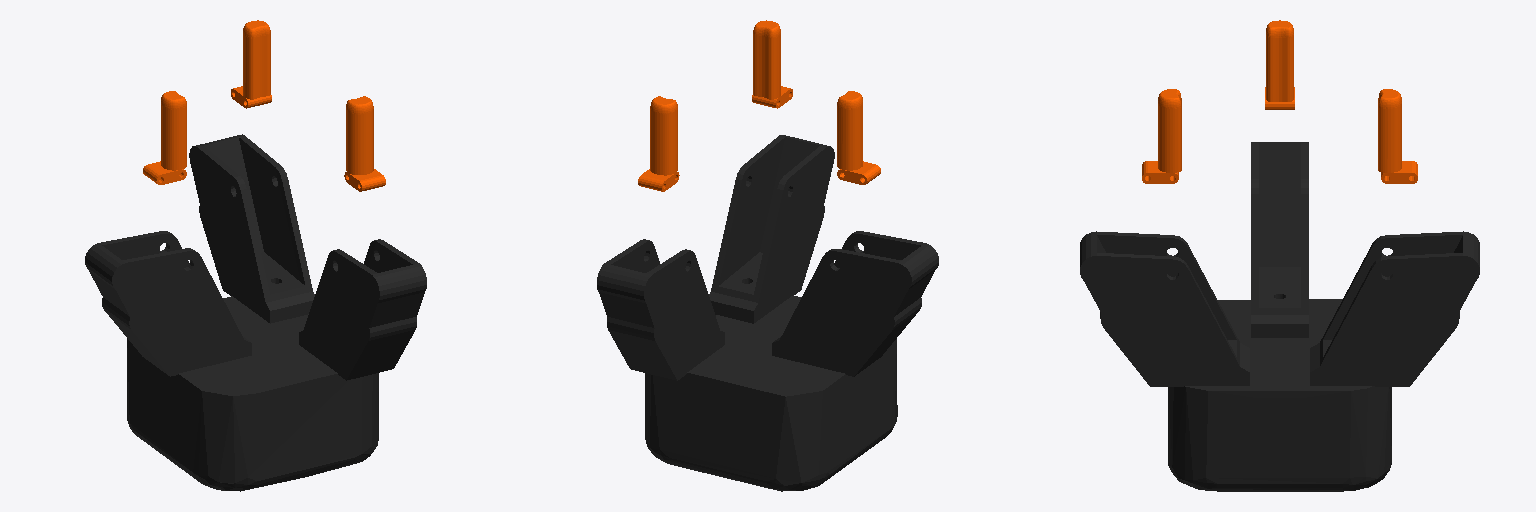
URDF robot description (lbr_iiwa_with_wsg50):
<?xml version="1.0" ?>
<robot name="lbr_iiwa_with_wsg50">

  <!-- Import Rviz colors -->
  <material name="Grey">
    <color rgba="0.2 0.2 0.2 1.0"/>
  </material>
  <material name="Orange">
    <color rgba="1.0 0.423529411765 0.0392156862745 1.0"/>
  </material>
  <material name="Blue">
  <color rgba="0.5 0.7 1.0 1.0"/>
</material>

  <!-- link 0 -->
  <link name="lbr_iiwa_link_0">
  <selfCollide>false</selfCollide>
    <inertial>
      <mass value="0.1"/>
      <origin xyz="-0.1 0 0.07" rpy="0 0 0"/>
      <inertia ixx="0.05" ixy="0" ixz="0" iyy="0.06" iyz="0" izz="0.03"/>
    </inertial>
    <collision name="lbr_iiwa_link_0_collision">
      <origin xyz="0 0 0" rpy="0 0 0"/>
      <geometry>
        <mesh filename="package://meshes//kuka//link_0.stl" scale="1 1 1"/>
      </geometry>
    </collision>
    <visual name="lbr_iiwa_link_0_visual">
      <origin xyz="0 0 0" rpy="0 0 0"/>
      <geometry>
        <mesh filename="package://meshes//kuka//link_0.stl" scale="1 1 1"/>
      </geometry>
      <material name="Grey"/>
    </visual>
  </link>

  <!-- joint between link_0 and link_1 -->
  <joint name="J0" type="revolute">
    <parent link="lbr_iiwa_link_0"/>
    <child link="lbr_iiwa_link_1"/>
    <origin xyz="0 0 0.1575" rpy="0 0 0"/>
    <axis xyz="0 0 1"/>
    <limit lower="-2.96706" upper="2.96706" effort="300.0" velocity="10.0"/>
  </joint>


  <!-- link 1 -->
  <link name="lbr_iiwa_link_1">
  <selfCollide>false</selfCollide>
    <inertial>
      <mass value="4"/>
      <origin xyz="0   -0.03  0.12" rpy="0 0 0"/>
      <inertia ixx="0.1" ixy="0" ixz="0" iyy="0.09" iyz="0" izz="0.02"/>
    </inertial>
    <collision name="lbr_iiwa_link_1_collision">
      <origin xyz="0 0 0" rpy="0 0 0"/>
      <geometry>
        <mesh filename="package://meshes//kuka//link_1.stl" scale="1 1 1"/>
      </geometry>
    </collision>
    <visual name="lbr_iiwa_link_1_visual">
      <origin xyz="0 0 0" rpy="0 0 0"/>
      <geometry>
        <mesh filename="package://meshes//kuka//link_1.stl" scale="1 1 1"/>
      </geometry>
      <material name="Blue"/>
    </visual>
  </link>

  <!-- joint between link_1 and link_2 -->
  <joint name="J1" type="revolute">
    <parent link="lbr_iiwa_link_1"/>
    <child link="lbr_iiwa_link_2"/>
    <origin xyz="0 0 0.2025" rpy="1.5708 0 -3.14159"/>
    <axis xyz="0 0 1"/>
    <limit lower="-2.0944" upper="2.0944" effort="300.0" velocity="10.0"/>
  </joint>

  <!-- link 2 -->
  <link name="lbr_iiwa_link_2">
  <selfCollide>false</selfCollide>
    <inertial>
      <mass value="4"/>
      <origin xyz="0.00029 0.059   0.042" rpy="0 0 0"/>
      <inertia ixx="0.05" ixy="0" ixz="0" iyy="0.018" iyz="0" izz="0.044"/>
    </inertial>
    <collision name="lbr_iiwa_link_2_collision">
      <origin xyz="0 0 0" rpy="0 0 0"/>
      <geometry>
        <mesh filename="package://meshes//kuka//link_2.stl" scale="1 1 1"/>
      </geometry>
    </collision>
    <visual name="lbr_iiwa_link_2_visual">
      <origin xyz="0 0 0" rpy="0 0 0"/>
      <geometry>
        <mesh filename="package://meshes//kuka//link_2.stl" scale="1 1 1"/>
      </geometry>
      <material name="Blue"/>
    </visual>
  </link>

  <!-- joint between link_2 and link_3 -->
  <joint name="J2" type="revolute">
    <parent link="lbr_iiwa_link_2"/>
    <child link="lbr_iiwa_link_3"/>
    <origin xyz="0     0.2045 0" rpy="1.5708 0 -3.14159"/>
    <axis xyz="0 0 1"/>
    <limit lower="-2.96706" upper="2.96706" effort="300.0" velocity="10.0"/>
  </joint>

  <link name="lbr_iiwa_link_3">
  <selfCollide>false</selfCollide>
    <inertial>
      <mass value="3"/>
      <origin xyz="0   0.03 0.13" rpy="0 0 0"/>
      <inertia ixx="0.08" ixy="0" ixz="0" iyy="0.075" iyz="0" izz="0.01"/>
    </inertial>
    <collision name="lbr_iiwa_link_3_collision">
      <origin xyz="0 0 0" rpy="0 0 0"/>
      <geometry>
        <mesh filename="package://meshes//kuka//link_3.stl" scale="1 1 1"/>
      </geometry>
    </collision>
    <visual name="lbr_iiwa_link_3_visual">
      <origin xyz="0 0 0" rpy="0 0 0"/>
      <geometry>
        <mesh filename="package://meshes//kuka//link_3.stl" scale="1 1 1"/>
      </geometry>
      <material name="Orange"/>
    </visual>
  </link>

  <joint name="J3" type="revolute">
    <parent link="lbr_iiwa_link_3"/>
    <child link="lbr_iiwa_link_4"/>
    <origin xyz="0     0     0.2155" rpy="1.5708 0     0"/>
    <axis xyz="0 0 1"/>
    <limit lower="-2.0944" upper="2.0944" effort="300.0" velocity="10.0"/>
  </joint>

  <link name="lbr_iiwa_link_4">
  <selfCollide>false</selfCollide>
    <inertial>
      <mass value="2.7"/>
      <origin xyz="0    0.067 0.034" rpy="0 0 0"/>
      <inertia ixx="0.03" ixy="0" ixz="0" iyy="0.01" iyz="0" izz="0.029"/>
    </inertial>
    <collision name="lbr_iiwa_link_4_collision">
      <origin xyz="0 0 0" rpy="0 0 0"/>
      <geometry>
        <mesh filename="package://meshes//kuka//link_4.stl" scale="1 1 1"/>
      </geometry>
    </collision>
    <visual name="lbr_iiwa_link_4_visual">
      <origin xyz="0 0 0" rpy="0 0 0"/>
      <geometry>
        <mesh filename="package://meshes//kuka//link_4.stl" scale="1 1 1"/>
      </geometry>
      <material name="Blue"/>
    </visual>
  </link>


  <joint name="J4" type="revolute">
    <parent link="lbr_iiwa_link_4"/>
    <child link="lbr_iiwa_link_5"/>
    <origin xyz="0     0.1845 0" rpy="1.5708  0      3.14159"/>
    <axis xyz="0 0 1"/>
    <limit lower="-2.96706" upper="2.96706" effort="300.0" velocity="10.0"/>
  </joint>


  <link name="lbr_iiwa_link_5">
  <selfCollide>false</selfCollide>
    <inertial>
      <mass value="1.7"/>
      <origin xyz="0.0001 0.021  0.076" rpy="0 0 0"/>
      <inertia ixx="0.02" ixy="0" ixz="0" iyy="0.018" iyz="0" izz="0.005"/>
    </inertial>
    <collision name="lbr_iiwa_link_5_collision">
      <origin xyz="0 0 0" rpy="0 0 0"/>
      <geometry>
        <mesh filename="package://meshes//kuka//link_5.stl" scale="1 1 1"/>
      </geometry>
    </collision>
    <visual name="lbr_iiwa_link_5_visual">
      <origin xyz="0 0 0" rpy="0 0 0"/>
      <geometry>
        <mesh filename="package://meshes//kuka//link_5.stl" scale="1 1 1"/>
      </geometry>
      <material name="Blue"/>
    </visual>
  </link>

  <joint name="J5" type="revolute">
    <parent link="lbr_iiwa_link_5"/>
    <child link="lbr_iiwa_link_6"/>
    <origin xyz="0     0     0.2155" rpy="1.5708 0     0"/>
    <axis xyz="0 0 1"/>
    <limit lower="-2.0944" upper="2.0944" effort="300.0" velocity="10.0"/>
  </joint>

  <link name="lbr_iiwa_link_6">
  <selfCollide>false</selfCollide>
    <inertial>
      <mass value="1.8"/>
      <origin xyz="0      0.00059 0.0004" rpy="0 0 0"/>
      <inertia ixx="0.005" ixy="0" ixz="0" iyy="0.0036" iyz="0" izz="0.0047"/>
    </inertial>
    <collision name="lbr_iiwa_link_6_collision">
      <origin xyz="0 0 0" rpy="0 0 0"/>
      <geometry>
        <mesh filename="package://meshes//kuka//link_6.stl" scale="1 1 1"/>
      </geometry>
    </collision>
    <visual name="lbr_iiwa_link_6_visual">
      <origin xyz="0 0 0" rpy="0 0 0"/>
      <geometry>
        <mesh filename="package://meshes//kuka//link_6.stl" scale="1 1 1"/>
      </geometry>
      <material name="Orange"/>
    </visual>
  </link>

  <joint name="J6" type="revolute">
    <parent link="lbr_iiwa_link_6"/>
    <child link="lbr_iiwa_link_7"/>
    <origin xyz="0    0.081 0" rpy="1.5708   0      -3.14159"/>
    <axis xyz="0 0 1"/>
    <limit lower="-3.05433" upper="3.05433" effort="300.0" velocity="10.0"/>
  </joint>

  <link name="lbr_iiwa_link_7">
  <selfCollide>false</selfCollide>
    <inertial>
      <mass value="0.3"/>
      <origin xyz="0   0   0.02" rpy="0 0 0"/>
      <inertia ixx="0.001" ixy="0" ixz="0" iyy="0.001" iyz="0" izz="0.001"/>
    </inertial>
    <collision name="lbr_iiwa_link_7_collision">
      <origin xyz="0 0 0" rpy="0 0 0"/>
      <geometry>
        <mesh filename="package://meshes//kuka//link_7.stl" scale="1 1 1"/>
      </geometry>
    </collision>
    <visual name="lbr_iiwa_link_7_visual">
      <origin xyz="0 0 0" rpy="0 0 0"/>
      <geometry>
        <mesh filename="package://meshes//kuka//link_7.stl" scale="1 1 1"/>
      </geometry>
      <material name="Grey"/>
    </visual>
  </link>

<!-- Palm -->

  <joint name="base_joint" type="fixed">
    <parent link="lbr_iiwa_link_7"/>
    <child link="hand_base_link"/>
    <origin xyz="0 0 0.132936" rpy="0 0 0"/> <!-- 0.044 -->
    <axis xyz="0 0 0"/>
    <limit lower="0" upper="0" effort="0" velocity="0"/>
  </joint>

  <link name="hand_base_link"> </link>

  <!-- pas conforme au setup reel -->
  <!-- xyz="-0.11876 0 0.11935"
       rpy="0 0.93236 0"/>-->
  <!-- setup reel-->
  <joint name="hand_interface_to_base" type="fixed">
    <origin rpy="0 0.0 0" xyz="0 0 0.0"/> <!-- 0.132936 -->
    <parent link="hand_base_link"/>
    <child link="hand_base_hand"/>
    <axis xyz="0 0 0"/>
  </joint>

  <link name="hand_base_hand">
    <selfCollide>false</selfCollide>
    <inertial>
      <origin rpy="0 0 0" xyz="0.00 0.0 -0.04835"/>
      <mass value="2.9623"/>
      <inertia ixx="0.0098688" ixy="0" ixz="-0.00072557" iyy="0.011075" iyz="0" izz="0.015946"/>
    </inertial>
    <visual>
      <origin rpy="0 0 0" xyz="0 0 0"/>
      <geometry>
        <mesh filename="package://visual/paume/base_hand_paume1.STL" />
        <!--  filename="package://cea_robots/meshes/hand/visual/base_link.STL" />-->
      </geometry>
      <material name="Grey"/>
    </visual>
    <collision>
      <origin rpy="0 0 0" xyz="0 0 0"/>
      <geometry>
        <mesh filename="package://collision/paume/base_hand_paume1.STL"/>
        <!-- filename="package://cea_robots/meshes/hand/collision/base_link.STL" />-->
      </geometry>
    </collision>
  </link>

<!-- Finger 1 -->
<!-- Adduction / abduction Joint -->
<!-- Just a reminder joint frame are localized upon the parent joint frame -->
<!-- Then the inertia frame, link frame is localized upon this new joint frame -->
<!-- Same goes for visual and collision frame -->
<!-- rpy = pitch yaw roll ; 
remember that at each rotation we're using the old axes to do it not the new ones -->
  <joint name="base_finger_1" type="revolute">
    <origin rpy="0 -1.5708 -3.1416 " xyz="0.054 0.054 0.09885097"/>
    <parent link="hand_base_hand"/>
    <child link="finger1_B"/>
    <axis xyz="1 0 0"/>
    <dynamics damping="8"/>
    <limit effort="100" lower="-1.5708" upper="0" velocity="3"/>
  </joint>

  <link name="finger1_B">
    <selfCollide>false</selfCollide>
    <inertial>
      <origin rpy="0 0 0" xyz="-0.0465 -0.04775 -0.0"/>
      <mass value="0.519"/>
      <inertia ixx="0.0007" ixy="-0.0002" ixz="0.0" iyy="0.0006" iyz="0.0" izz="0.0011"/>
    </inertial>
    <visual>
      <origin rpy="0 0 0" xyz="0 0 0"/>
      <geometry>
        <mesh filename="package://visual/base_finger/finger.STL" />
      </geometry>
      <material name="Grey"/>
    </visual>
    <collision>
      <origin rpy="0 0 0" xyz="0 0 0"/>
      <geometry>
        <mesh filename="package://collision/base_finger/finger.STL" />
      </geometry>
    </collision>
  </link>

  <joint name="finger1_BP_joint" type="revolute">
    <origin rpy="0 0 0" xyz="0 -0.03255 0"/>
    <parent link="finger1_B"/>
    <child link="finger1_P"/>
    <axis xyz="0 0 1"/>
    <dynamics damping="0.3"/>
    <limit effort="5" lower="-1.3" upper="0.31416" velocity="5"/>  <!-- -0.43633 -->
  </joint>

  <link name="finger1_P">
    <selfCollide>false</selfCollide>
    <inertial>
      <origin rpy="0 0 0" xyz="0.03411 -0.01012 0.0"/>
      <mass value="0.300"/>
      <inertia ixx="0.000092" ixy="-0.000061" ixz="0.0" iyy="0.00031" iyz="0.0" izz="0.00031"/>
      <!--<mass value="0.09833" />
          <inertia
              ixx="0.00003"
              ixy="-0.00002"
              ixz="0.0"
              iyy="0.00010"
              iyz="0.0"
              izz="0.00010" />-->
    </inertial>

    <visual>
      <origin rpy="0 0 0" xyz="0 0 0"/>
      <geometry>
        <mesh filename="package://visual/proximal/proximal_0.09.STL" />
      </geometry>
      <material name="Orange"/>
    </visual>

    <collision>
      <!--<origin rpy="0 0 0" xyz="0.04 -0.01 0"/>
      <geometry>
        <box size="0.090 0.030 0.033"/>
      </geometry>-->

      <origin rpy="0 0 0" xyz="0 0 0"/>
      <geometry>
        <mesh filename="package://collision/proximal/proximal_0.09.STL" />
      </geometry>
    </collision>
  </link>

  <joint name="finger1_PD_joint" type="revolute">
    <origin rpy="0 0 0" xyz="0.08 0 0.0"/>
    <parent link="finger1_P"/>
    <child link="finger1_D"/>
    <axis xyz="0 0 1"/>
    <dynamics damping="0.3"/>
    <limit effort="5" lower="-0.5" upper="1.0472" velocity="5"/>
  </joint>

  <link name="finger1_D">
    <selfCollide>false</selfCollide>
    <inertial>
      <origin rpy="0 0 0" xyz="0.03032 -0.0019 0.0"/>
      <mass value="0.150"/>
      <inertia ixx="0.000025" ixy="0.000013" ixz="0.0" iyy="0.000102" iyz="0.0" izz="0.000108"/>
      <!--<mass value="0.200" />
          <inertia
              ixx="0.000028"
              ixy="0.000014"
              ixz="0.0"
              iyy="0.000113"
              iyz="0.0"
              izz="0.000120" />-->
      <!--<mass value="0.02828" />
          <inertia
              ixx="0.000004"
              ixy="0.000002"
              ixz="0.0"
              iyy="0.000016"
              iyz="0.0"
              izz="0.000017" />-->
    </inertial>
    <visual>
      <origin rpy="0 0 0" xyz="0 0 0"/>
      <geometry>
        <mesh filename="package://visual/distal/distal_2P/distal_0.66.STL" />
      </geometry>
      <material name="Orange"/>
    </visual>
    <collision>
      <!--<origin rpy="0 1.57 0" xyz="0.030 -0.002 0"/>
      <geometry>
        <cylinder length="0.066" radius="0.011"/>
      </geometry>
      -->
      <origin rpy="0 0 0" xyz="0 0 0"/>
      <geometry>
        <mesh filename="package://collision/distal/distal_2P/distal_0.66.STL" />
      </geometry>
    </collision>

    <!--<collision>
      <origin rpy="0 0 0" xyz="0.063 -0.002 0"/>
      <geometry>
        <sphere radius="0.011"/>
      </geometry>
    </collision>-->
  </link>

<!-- FINGER 2 -->
<!-- Adduction / Abduction joint -->
  <joint name="base_finger_2" type="revolute">
    <origin rpy="3.1416 -1.5708 3.1416" xyz="0.054 -0.054 0.09885097"/>
    <parent link="hand_base_hand"/>
    <child link="finger2_B"/>
    <axis xyz="1 0 0"/>
    <dynamics damping="8"/>
    <limit effort="100" lower="0" upper="1.5708" velocity="3"/>
    <mimic joint="hand_abduction1" multiplier="-1" offset="0"/>
  </joint>

  <link name="finger2_B">
    <selfCollide>false</selfCollide>
    <inertial>
      <origin rpy="0 0 0" xyz="-0.0465 -0.04775 -0.0"/>
      <mass value="0.519"/>
      <inertia ixx="0.0007" ixy="-0.0002" ixz="0.0" iyy="0.0006" iyz="0.0" izz="0.0011"/>
    </inertial>
    <visual>
      <origin rpy="0 0 0" xyz="0 0 0"/>
      <geometry>
        <mesh filename="package://visual/base_finger/finger.STL" />
      </geometry>
      <material name="Grey"/>
    </visual>
    <collision>
      <origin rpy="0 0 0" xyz="0 0 0"/>
      <geometry>
        <mesh filename="package://collision/base_finger/finger.STL" />
      </geometry>
    </collision>
  </link>

  <joint name="finger2_BP_joint" type="revolute">
    <origin rpy="0 0 0" xyz="0 -0.03255 0"/>
    <parent link="finger2_B"/>
    <child link="finger2_P"/>
    <axis xyz="0 0 1"/>
    <dynamics damping="0.3"/>
    <limit effort="5" lower="-1.3" upper="0.31416" velocity="5"/>
  </joint>

  <link name="finger2_P">
    <selfCollide>false</selfCollide>
    <inertial>
      <origin rpy="0 0 0" xyz="0.03411 -0.01012 0.0"/>
      <mass value="0.300"/>
      <inertia ixx="0.000092" ixy="-0.000061" ixz="0.0" iyy="0.00031" iyz="0.0" izz="0.00031"/>
      <!--<mass value="0.09833" />
          <inertia
              ixx="0.00003"
              ixy="-0.00002"
              ixz="0.0"
              iyy="0.00010"
              iyz="0.0"
              izz="0.00010" />-->
    </inertial>
    <visual>
      <origin rpy="0 0 0" xyz="0 0 0"/>
      <geometry>
        <mesh filename="package://visual/proximal/proximal_0.09.STL" />
      </geometry>
      <material name="Orange"/>
    </visual>
    <collision>
      <!--<origin rpy="0 0 0" xyz="0.04 -0.01 0"/>
      <geometry>
        <box size="0.090 0.030 0.033"/>
      </geometry>-->

      <origin rpy="0 0 0" xyz="0 0 0"/>
      <geometry>
        <mesh filename="package://collision/proximal/proximal_0.09.STL" />
      </geometry>
    </collision>
  </link>

  <joint name="finger2_PD_joint" type="revolute">
    <origin rpy="0 0 0" xyz="0.08 0 0.0"/>
    <parent link="finger2_P"/>
    <child link="finger2_D"/>
    <axis xyz="0 0 1"/>
    <dynamics damping="0.3"/>
    <limit effort="5" lower="-0.5" upper="1.0472" velocity="5"/>
  </joint>

  <link name="finger2_D">
    <selfCollide>false</selfCollide>
    <inertial>
      <origin rpy="0 0 0" xyz="0.03032 -0.0019 0.0"/>
      <mass value="0.150"/>
      <inertia ixx="0.000025" ixy="0.000013" ixz="0.0" iyy="0.000102" iyz="0.0" izz="0.000108"/>
      <!--<mass value="0.200" />
          <inertia
              ixx="0.000028"
              ixy="0.000014"
              ixz="0.0"
              iyy="0.000113"
              iyz="0.0"
              izz="0.000120" />-->
      <!--<mass value="0.02828" />
          <inertia
              ixx="0.000004"
              ixy="0.000002"
              ixz="0.0"
              iyy="0.000016"
              iyz="0.0"
              izz="0.000017" />-->
    </inertial>
    <visual>
      <origin rpy="0 0 0" xyz="0 0 0"/>
      <geometry>
        <mesh filename="package://visual/distal/distal_2P/distal_0.66.STL" />
      </geometry>
      <material name="Orange"/>
    </visual>
    <collision>
    <!--
      <origin rpy="0 1.57 0" xyz="0.030 -0.002 0"/>
      <geometry>
        <cylinder length="0.066" radius="0.011"/>
      </geometry>-->

      <origin rpy="0 0 0" xyz="0 0 0"/>
      <geometry>
        <mesh filename="package://collision/distal/distal_2P/distal_0.66.STL" />
      </geometry>
    </collision>
    <!--
    <collision>
      <origin rpy="0 0 0" xyz="0.063 -0.002 0"/>
      <geometry>
        <sphere radius="0.011"/>
      </geometry>
    </collision>-->
  </link>


  <!-- FINGER 3 -->

  <joint name="base_finger_3" type="fixed">
    <!-- position pas exactement bonne par rapport a la main reelle a 2-3 mm pres -->
    <origin rpy="-1.5708 -1.5708 0" xyz="-0.04398 0 0.09885097"/>
    <parent link="hand_base_hand"/>
    <child link="finger3_B"/>
    <axis xyz="0 0 0"/>
  </joint>

  <link name="finger3_B">
    <selfCollide>false</selfCollide>
    <inertial>
      <origin rpy="0 0 0" xyz="-0.0465 -0.04775 -0.0"/>
      <mass value="0.519"/>
      <inertia ixx="0.0007" ixy="-0.0002" ixz="0.0" iyy="0.0006" iyz="0.0" izz="0.0011"/>
    </inertial>
    <visual>
      <origin rpy="0 0 0" xyz="0 0 0"/>
      <geometry>
        <mesh filename="package://visual/base_finger/finger.STL" />
      </geometry>
      <material name="Grey"/>
    </visual>
    <collision>
      <origin rpy="0 0 0" xyz="0 0 0"/>
      <geometry>
        <mesh filename="package://collision/base_finger/finger.STL" />
      </geometry>
    </collision>
  </link>


  <joint name="finger3_BP_joint" type="revolute">
    <origin rpy="0 0 0" xyz="0 -0.03255 0"/>
    <parent link="finger3_B"/>
    <child link="finger3_P"/>
    <axis xyz="0 0 1"/>
    <dynamics damping="0.3"/>
    <limit effort="5" lower="-1.3" upper="0.31416" velocity="5"/>
  </joint>

  <link name="finger3_P">
    <selfCollide>false</selfCollide>
    <inertial>
      <origin rpy="0 0 0" xyz="0.03411 -0.01012 0.0"/>
      <mass value="0.300"/>
      <inertia ixx="0.000092" ixy="-0.000061" ixz="0.0" iyy="0.00031" iyz="0.0" izz="0.00031"/>
      <!--<mass
                        value="0.09833" />
                    <inertia
                        ixx="0.00003"
                        ixy="-0.00002"
                        ixz="0.0"
                        iyy="0.00010"
                        iyz="0.0"
                        izz="0.00010" />-->
    </inertial>
    <visual>
      <origin rpy="0 0 0" xyz="0 0 0"/>
      <geometry>
        <mesh filename="package://visual/proximal/proximal_0.09.STL" />
      </geometry>
      <material name="Orange"/>
    </visual>

    <collision>

      <!--<origin rpy="0 0 0" xyz="0.04 -0.01 0"/>
      <geometry>
        <box size="0.090 0.030 0.033"/>
      </geometry>-->

      <origin rpy="0 0 0" xyz="0 0 0"/>
      <geometry>
        <mesh filename="package://collision/proximal/proximal_0.09.STL" />
      </geometry>

    </collision>
  </link>

  <joint name="finger3_PD_joint" type="revolute">
    <origin rpy="0 0 0" xyz="0.08 0 0.0"/>
    <parent link="finger3_P"/>
    <child link="finger3_D"/>
    <axis xyz="0 0 1"/>
    <dynamics damping="0.3"/>
    <limit effort="5" lower="-0.5" upper="1.0472" velocity="5"/>
  </joint>

  <link name="finger3_D">
    <selfCollide>false</selfCollide>
    <inertial>
      <origin rpy="0 0 0" xyz="0.03032 -0.0019 0.0"/>
      <mass value="0.150"/>
      <inertia ixx="0.000025" ixy="0.000013" ixz="0.0" iyy="0.000102" iyz="0.0" izz="0.000108"/>
      <!--<mass value="0.200" />
          <inertia
              ixx="0.000028"
              ixy="0.000014"
              ixz="0.0"
              iyy="0.000113"
              iyz="0.0"
              izz="0.000120" /> -->
      <!--<mass value="0.02828" />
          <inertia
            ixx="0.000004"
            ixy="0.000002"
            ixz="0.0"
            iyy="0.000016"
            iyz="0.0"
            izz="0.000017" /> -->
    </inertial>
    <visual>
      <origin rpy="0 0 0" xyz="0 0 0"/>
      <geometry>
        <mesh filename="package://visual/distal/distal_2P/distal_0.66.STL" />
      </geometry>
      <material name="Orange"/>
    </visual>
    <collision>
      <!-- 
      <origin rpy="0 1.57 0" xyz="0.030 -0.002 0"/> 
      <geometry>
      <cylinder length="0.066" radius="0.011"/> 
      </geometry>
      -->

      <origin rpy="0 0 0" xyz="0.0 0.0 0"/>
      <geometry>
        <mesh filename="package://collision/distal/distal_2P/distal_0.66.STL" />
      </geometry>
    </collision>

    <!--<collision>
      <origin rpy="0 0 0" xyz="0.063 -0.002 0"/>
      <geometry>
        <sphere radius="0.011"/>
      </geometry>
    </collision>-->
  </link>

  <joint name="hand_base_to_case" type="fixed">
    <origin rpy="0 0 0" xyz="0 0 0.013"/>
    <parent link="hand_base_hand"/>
    <child link="hand_case"/>
    <axis xyz="0 0 0"/>
  </joint>

  <link name="hand_case">
    <selfCollide>false</selfCollide>
    <visual>
      <origin rpy="0 0 0" xyz="0 0 0"/>
      <geometry>
        <mesh filename="package://visual/case/case_3d.STL"/>
      </geometry>
      <material name="Grey"/>
    </visual>
    <collision>
      <origin rpy="0 0 0" xyz="0 0 0"/>
      <geometry>
        <mesh filename="package://collision/case/case_3d.STL"/>
      </geometry>
    </collision>
  </link>

  <joint name="hand_case_to_grasp_center" type="fixed">
    <origin rpy="0 0 0" xyz="0 0 0.15"/>
    <parent link="hand_base_hand"/>
    <child link="hand_grasp_center"/>
    <axis xyz="0 0 0"/>
  </joint>

  <link name="hand_grasp_center"> </link>

</robot>

--- Facts derived from the render (not from the file) ---
3 views of the same robot in one strip: view 1: azimuth 30°, elevation 25°; view 2: azimuth 150°, elevation 25°; view 3: azimuth 270°, elevation 25° (orthographic).
Model lbr_iiwa_with_wsg50 with 21 links and 20 joints (15 revolute, 5 fixed), rooted at lbr_iiwa_link_0, posed all joints at 0.
Links seen in each view (by area): view 1: hand_base_hand, finger1_B, finger3_B, finger2_B, finger2_D, finger3_D, finger1_D; view 2: hand_base_hand, finger2_B, finger3_B, finger1_B, finger1_D, finger3_D, finger2_D; view 3: hand_base_hand, finger1_B, finger2_B, finger3_B, finger1_D, finger2_D, finger3_D.
Link boxes in pixels (x1=…): hand_base_hand: x1=127, y1=296, x2=378, y2=491; finger1_B: x1=189, y1=134, x2=314, y2=323; finger3_B: x1=85, y1=231, x2=251, y2=376; finger2_B: x1=299, y1=239, x2=426, y2=380; finger2_D: x1=344, y1=96, x2=385, y2=191; finger3_D: x1=143, y1=91, x2=186, y2=184; finger1_D: x1=231, y1=20, x2=271, y2=108; hand_base_hand: x1=645, y1=295, x2=897, y2=491; finger2_B: x1=709, y1=135, x2=834, y2=323; finger3_B: x1=772, y1=231, x2=938, y2=376; finger1_B: x1=597, y1=239, x2=724, y2=380; finger1_D: x1=638, y1=96, x2=679, y2=191; finger3_D: x1=837, y1=91, x2=880, y2=184; finger2_D: x1=752, y1=20, x2=792, y2=108; hand_base_hand: x1=1168, y1=299, x2=1391, y2=491; finger1_B: x1=1310, y1=231, x2=1479, y2=386; finger2_B: x1=1080, y1=231, x2=1249, y2=386; finger3_B: x1=1251, y1=142, x2=1308, y2=337; finger1_D: x1=1378, y1=89, x2=1417, y2=183; finger2_D: x1=1142, y1=89, x2=1181, y2=183; finger3_D: x1=1265, y1=20, x2=1294, y2=109.
Size in the robot's own frame: 0.2398 by 0.3231 by 0.3449 metres.
Meshes: 13 distinct files referenced, 7 mesh visuals loaded (3 binary STL); not drawn: 12 (reference not matched to a file when rendering).